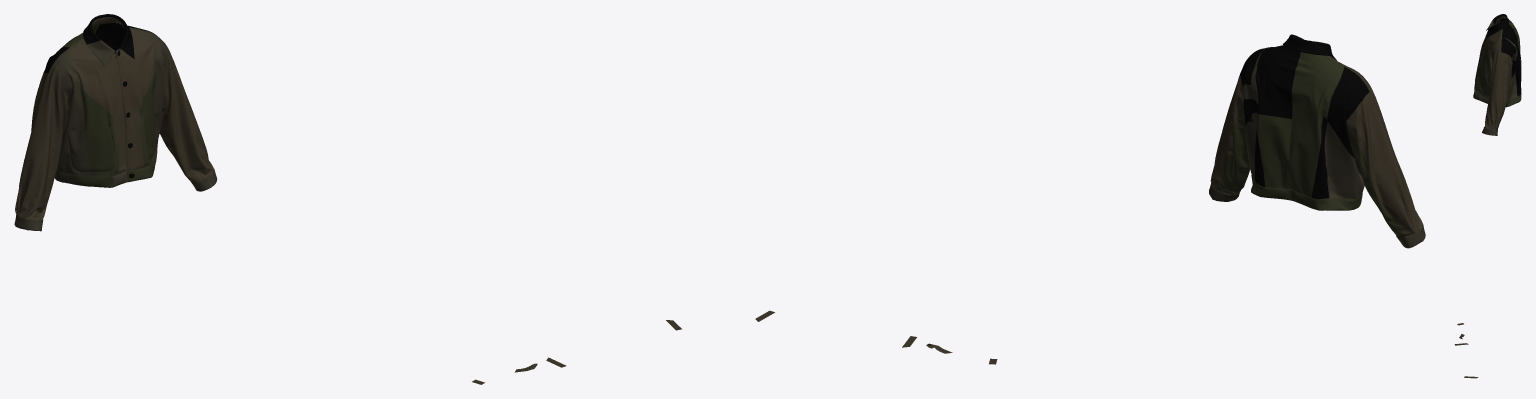
Rendered from garment_1.glb.
3 renders of one model, left to right at view 1: azimuth 30°, elevation 25°; view 2: azimuth 150°, elevation 25°; view 3: azimuth 270°, elevation 25°, orthographic. The views are drawn at different scales.
Visible parts, largest first — view 1: Cloth; view 2: Cloth; view 3: Cloth.
Part boxes in pixels (x1=…): Cloth: x1=14, y1=14, x2=681, y2=384; Cloth: x1=755, y1=34, x2=1425, y2=364; Cloth: x1=1454, y1=14, x2=1521, y2=378.
Size of the model in its own units: 2.83 by 1.68 by 0.4634.
16 materials, 16 textured.
